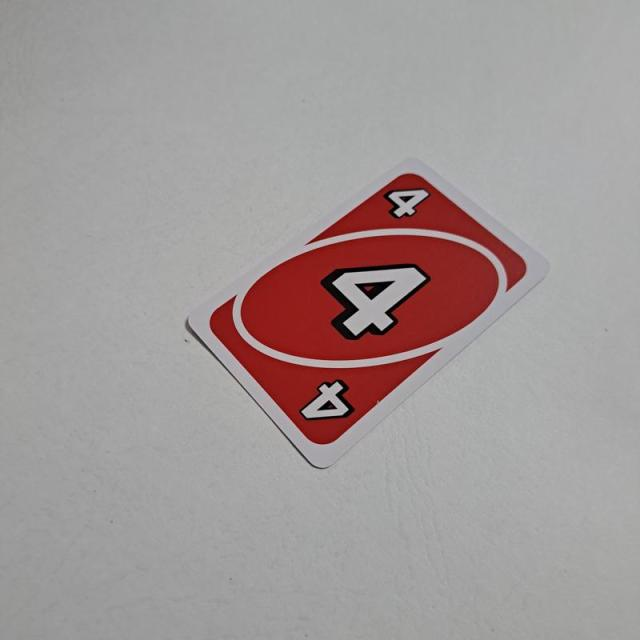Number_4: (379, 175, 435, 226)
Red_Card: (206, 170, 536, 452)
